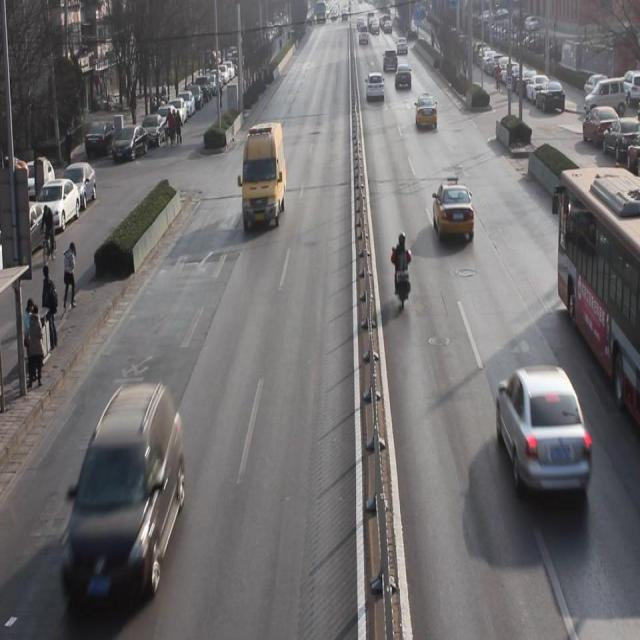car: (61, 389, 187, 602), (494, 364, 595, 515), (433, 180, 475, 248), (415, 94, 442, 136), (366, 73, 386, 108), (395, 66, 414, 94), (384, 49, 398, 75)
truck: (243, 124, 287, 240)
van: (555, 170, 640, 419)
